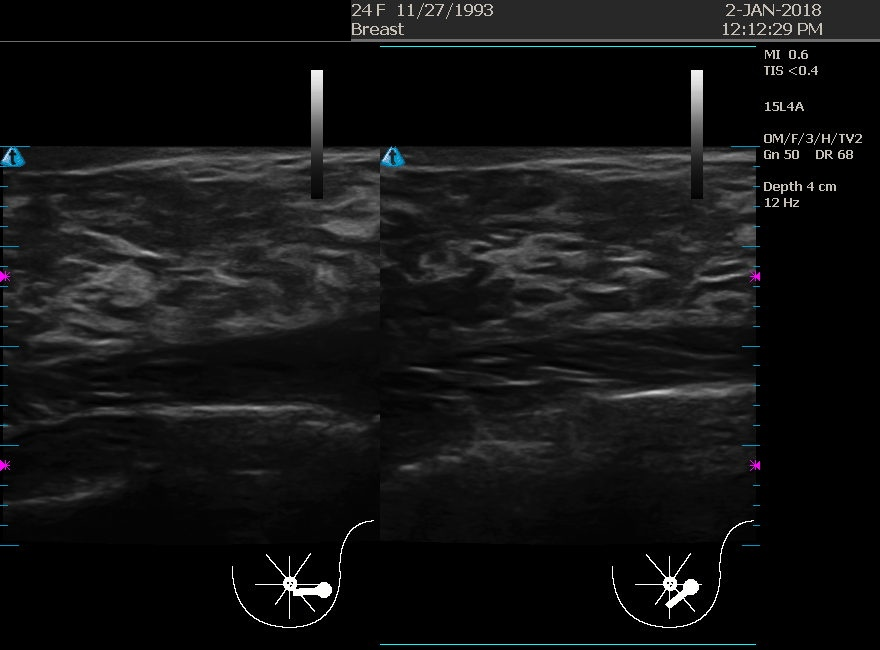BIRADS_4: (107, 153, 307, 353), (490, 169, 690, 369)
